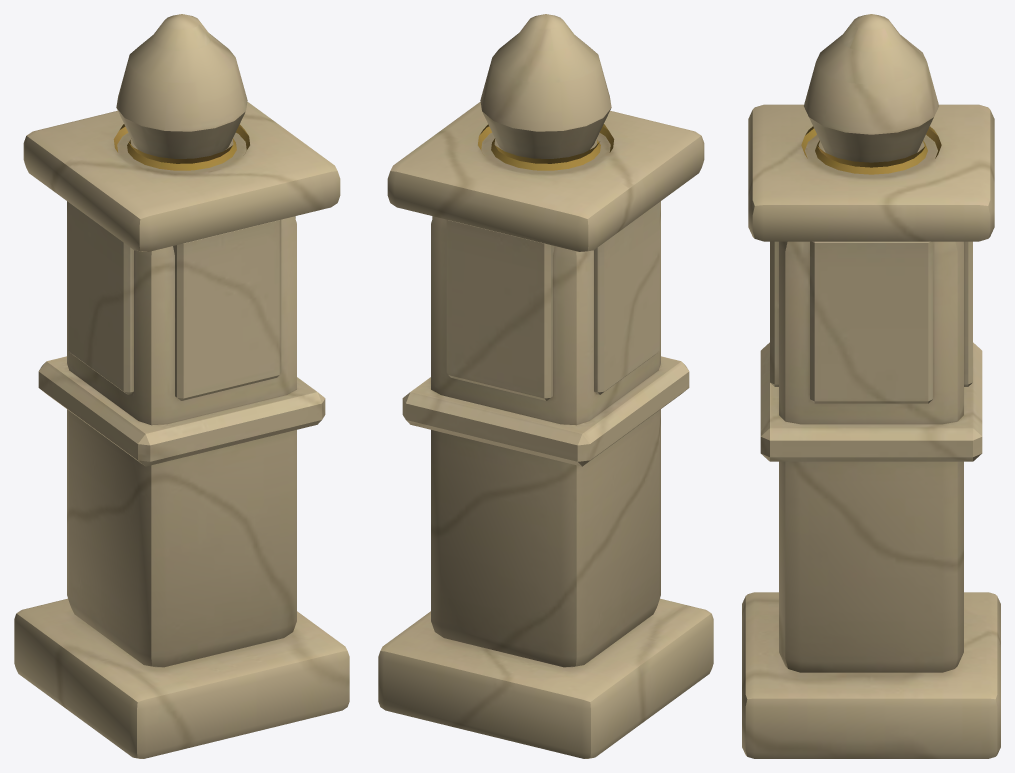
The model's file is newel.glb.
The picture shows the model from 3 angles, left to right: view 1: azimuth 30°, elevation 25°; view 2: azimuth 150°, elevation 25°; view 3: azimuth 270°, elevation 25°; orthographic projection. The views are drawn at different scales.
Parts seen in each view (by area): view 1: newel; view 2: newel; view 3: newel.
Part boxes in pixels (x1,y1,x2,y2): newel: (14,14,349,758); newel: (378,14,713,758); newel: (742,14,1000,758).
Bounding box in the file's own units: 0.42 × 1.25 × 0.42.
1 material, 1 textured.
